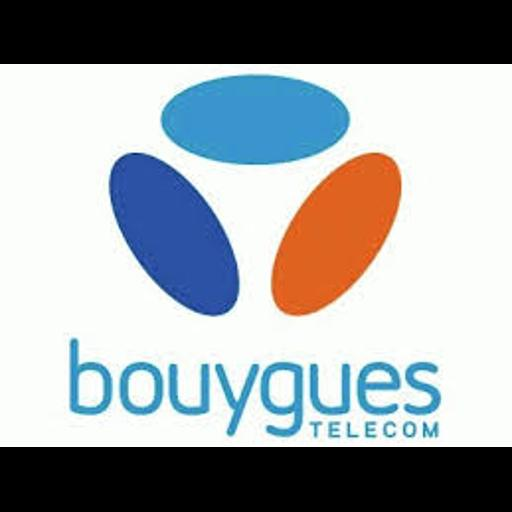Bouygues Telecom: (0, 64, 512, 447)
